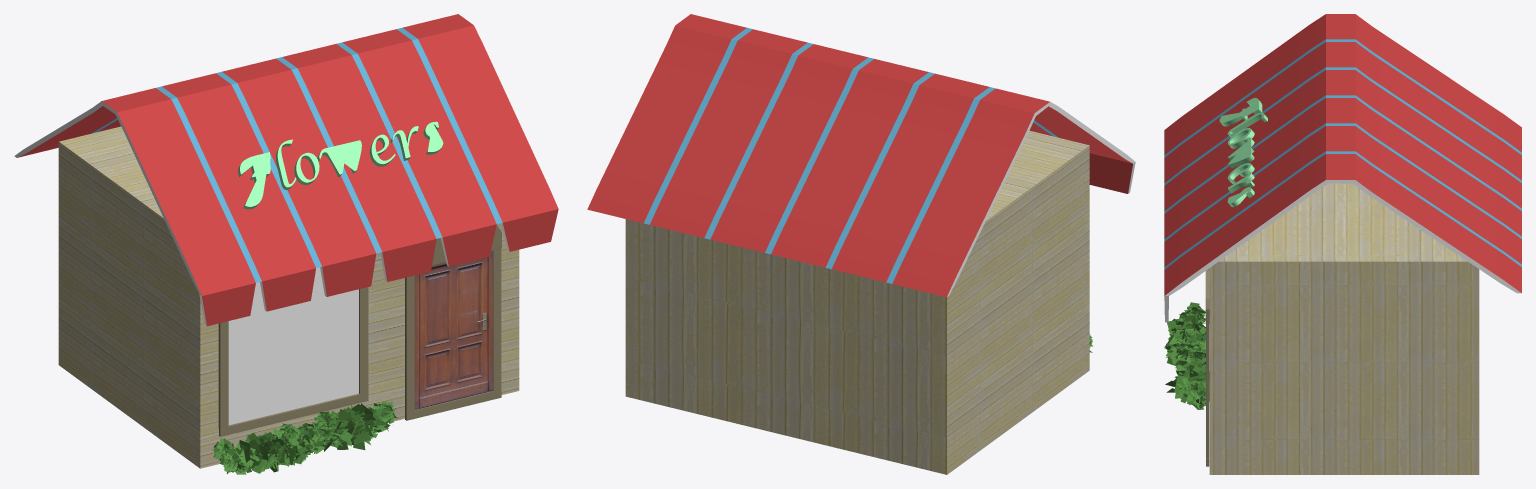
The model's file is Flower_Shop.fbx.
The picture shows the model from 3 angles, left to right: view 1: azimuth 30°, elevation 25°; view 2: azimuth 150°, elevation 25°; view 3: azimuth 270°, elevation 25°; orthographic projection. The views are drawn at different scales.
Visible parts, largest first — view 1: Roof, building, glass1, door, flower_text, leaves_Leaves_0.002, leaves_Leaves_0.003, flower_text1, pCube4, pCube8, pCube6, pCube11 (+2 smaller); view 2: building, Roof; view 3: building, Roof, flower_text1, leaves_Leaves_0.003, leaves_Leaves_0.002, flower_text, pCube6.
Part boxes in pixels (left/top/right/bottom): Roof: left=14, top=14, right=558, bottom=326; building: left=58, top=126, right=519, bottom=468; glass1: left=228, top=267, right=358, bottom=425; door: left=414, top=250, right=492, bottom=409; flower_text: left=238, top=121, right=443, bottom=209; leaves_Leaves_0.002: left=212, top=422, right=320, bottom=474; leaves_Leaves_0.003: left=298, top=401, right=397, bottom=453; flower_text1: left=240, top=122, right=442, bottom=208; pCube4: left=219, top=392, right=368, bottom=436; pCube8: left=405, top=275, right=414, bottom=415; pCube6: left=493, top=248, right=501, bottom=396; pCube11: left=218, top=321, right=228, bottom=429; building: left=625, top=130, right=1089, bottom=474; Roof: left=587, top=14, right=1135, bottom=297; building: left=1209, top=183, right=1479, bottom=474; Roof: left=1164, top=14, right=1521, bottom=322; flower_text1: left=1219, top=98, right=1267, bottom=207; leaves_Leaves_0.003: left=1165, top=344, right=1209, bottom=409; leaves_Leaves_0.002: left=1164, top=302, right=1205, bottom=368; flower_text: left=1220, top=97, right=1267, bottom=203; pCube6: left=1206, top=324, right=1209, bottom=458.
Bounding box in the file's own units: 18.09 × 15.55 × 16.49.
Materials: 19 (2 with a texture image).
